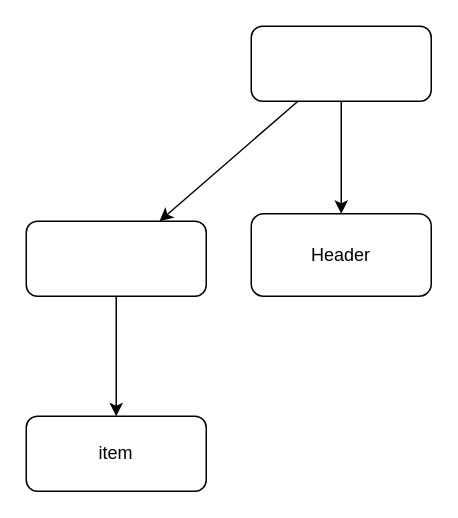
Image size: 458x518. Some labels were removed from this diagram. The centre of each missing label's shape, as x and y in pixels:
App: point (340, 63)
shopping list: point (115, 258)
